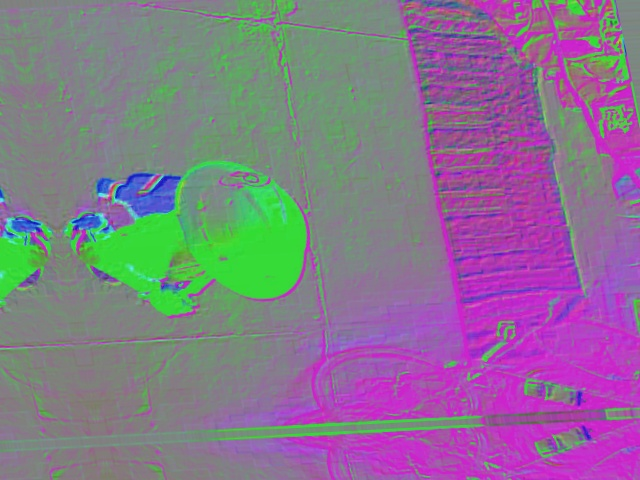eight: (215, 168, 274, 193)
